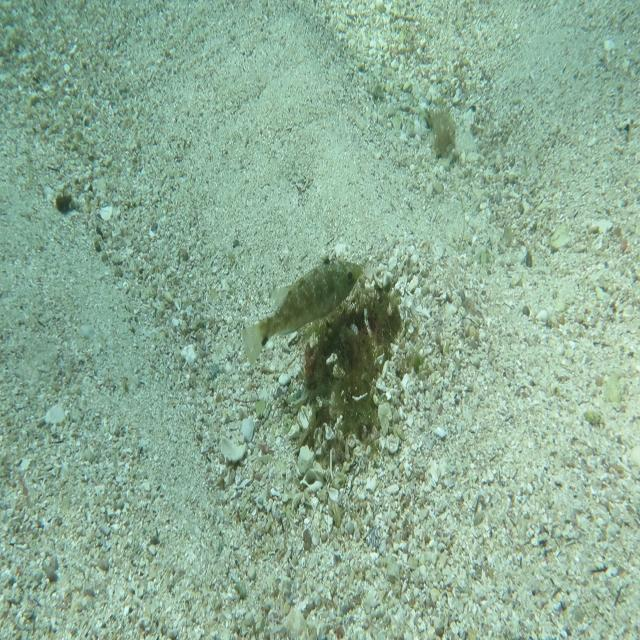FAN: (240, 250, 364, 366)
core_nest: (353, 305, 393, 343)
nest: (289, 274, 418, 486)
vegetation: (426, 108, 459, 160), (54, 189, 74, 214)
